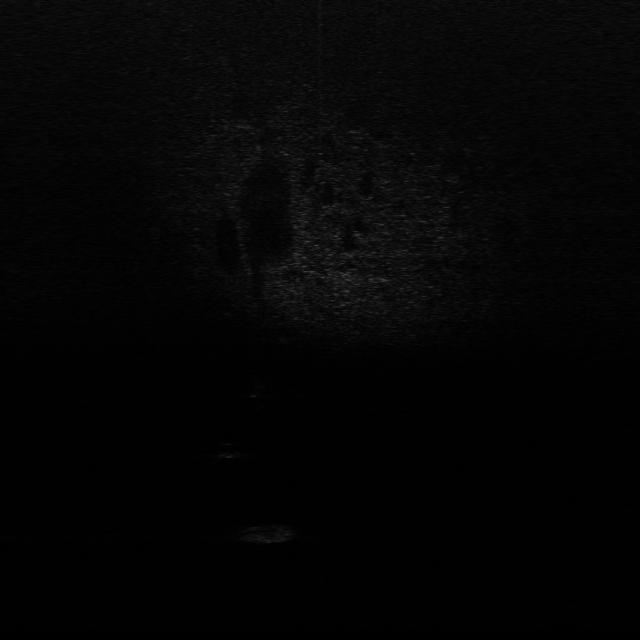ball: (218, 438, 246, 459)
circle cage: (228, 521, 297, 545)
human body: (249, 376, 267, 408)
